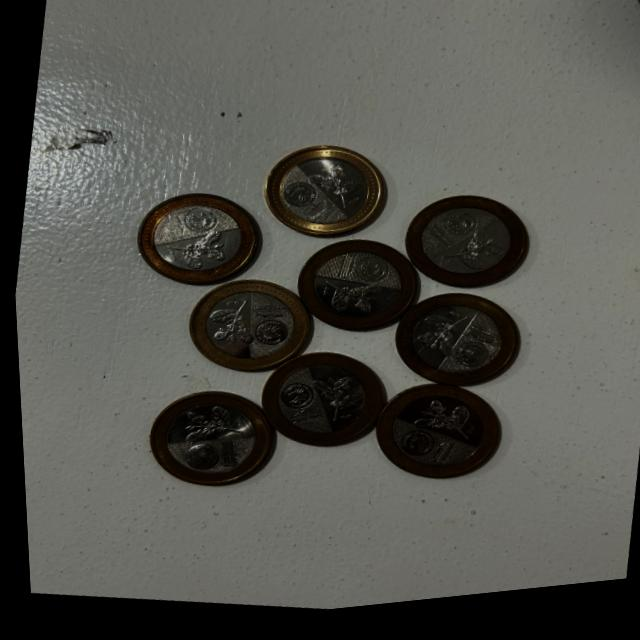20_New_Back: (400, 389, 482, 460), (196, 288, 262, 364), (160, 221, 230, 282)
